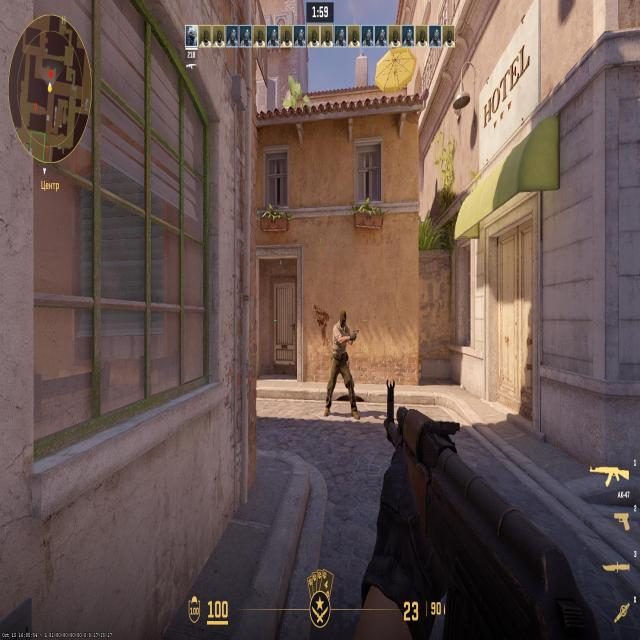T: (333, 308, 352, 417)
T_heat: (339, 310, 345, 334)
